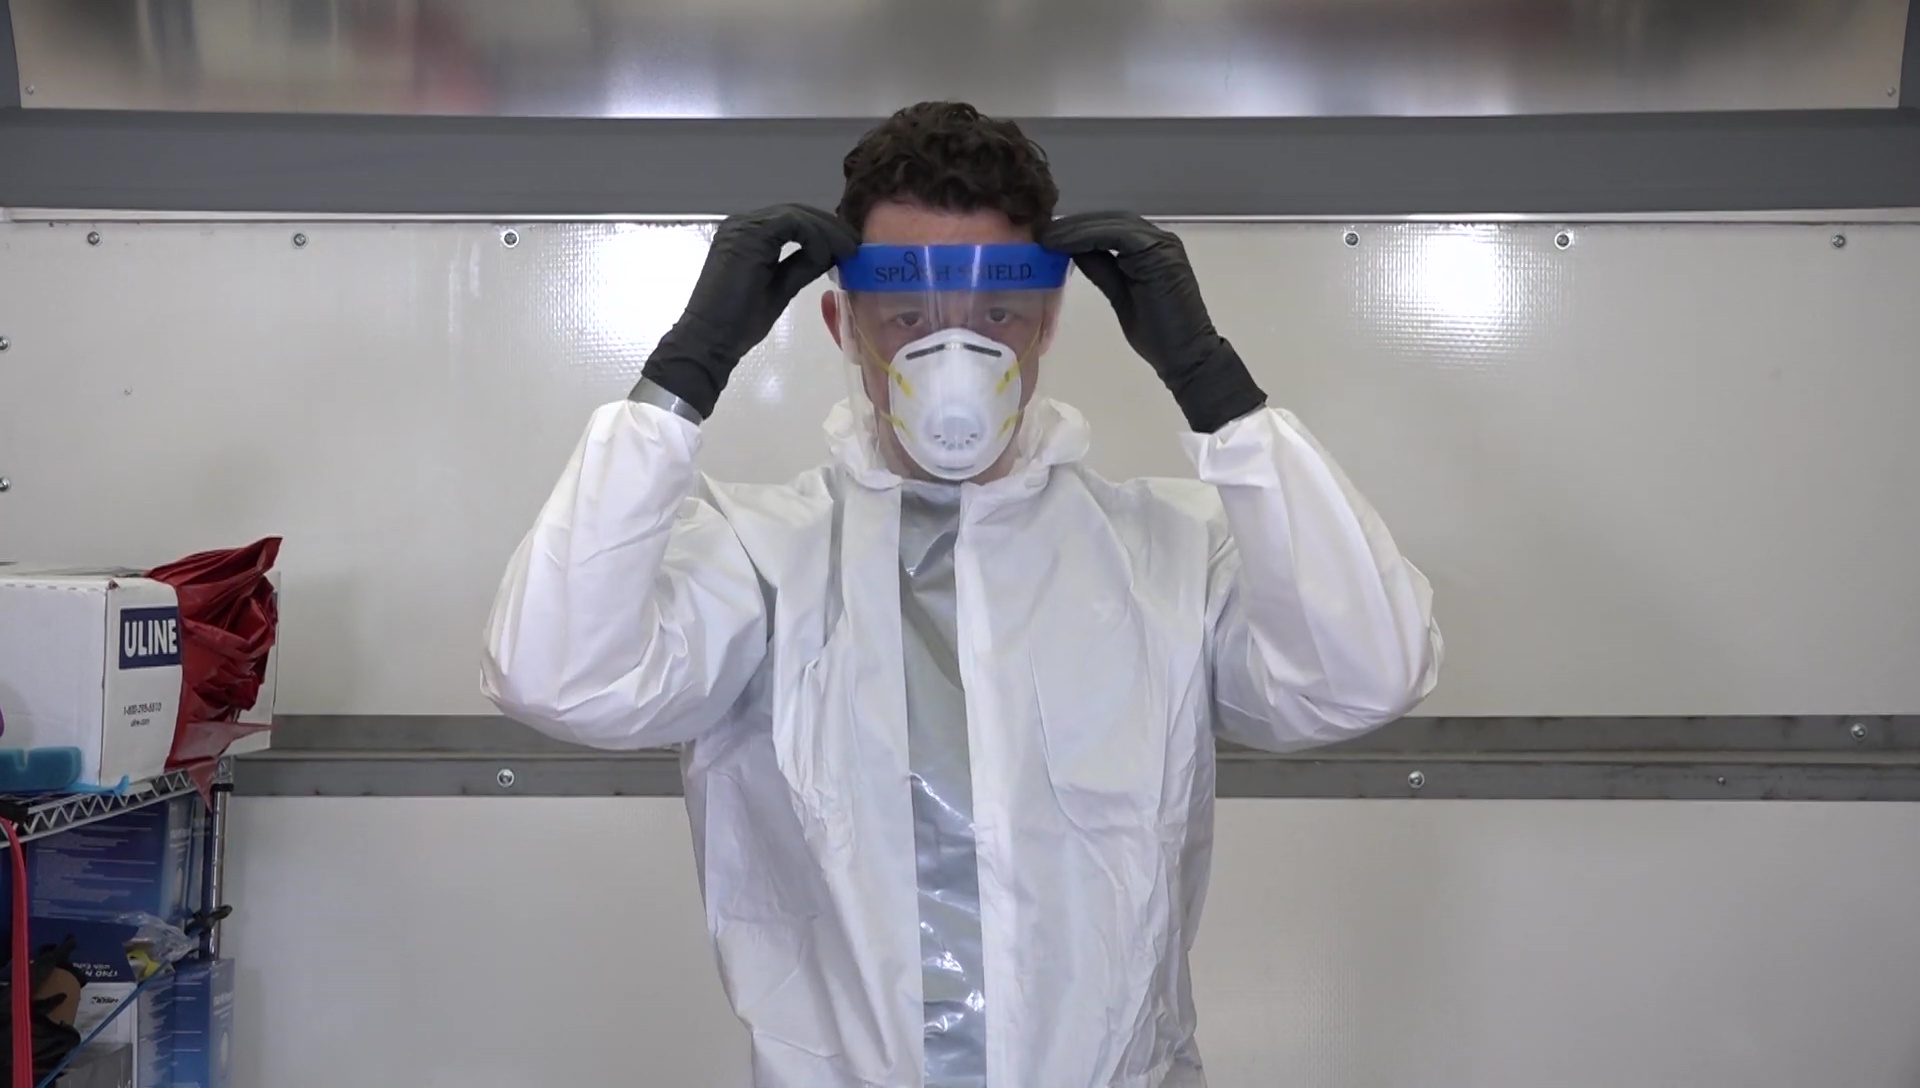Coverall: (479, 398, 1442, 1085)
Face_Shield: (823, 239, 1080, 519)
Gloves: (1034, 207, 1267, 432), (642, 201, 859, 418)
with_mask: (876, 298, 1030, 483)
